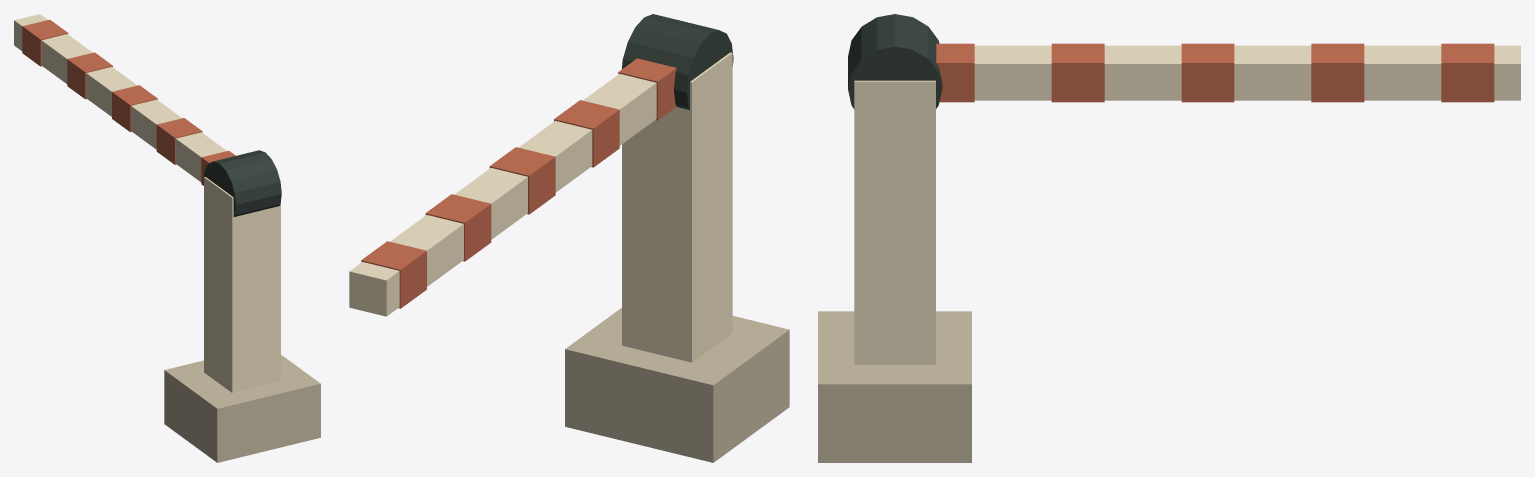
The model's file is gate.glb.
The picture shows the model from 3 angles, left to right: view 1: azimuth 30°, elevation 25°; view 2: azimuth 150°, elevation 25°; view 3: azimuth 270°, elevation 25°; orthographic projection. The views are drawn at different scales.
Visible parts, largest first — view 1: Gate stand, Gate foot, Arm beam, Mesh_GateArm_terra, Hinge; view 2: Gate stand, Gate foot, Arm beam, Mesh_GateArm_terra, Hinge; view 3: Gate stand, Gate foot, Arm beam, Mesh_GateArm_terra, Hinge.
Part boxes in pixels (box(x1,y1,x2,y2)): Gate stand: box(204, 177, 280, 392); Gate foot: box(164, 355, 320, 462); Arm beam: box(14, 14, 226, 181); Mesh_GateArm_terra: box(22, 19, 235, 185); Hinge: box(203, 150, 281, 216); Gate stand: box(622, 52, 732, 362); Gate foot: box(565, 308, 789, 462); Arm beam: box(349, 73, 656, 316); Mesh_GateArm_terra: box(361, 58, 676, 308); Hinge: box(621, 14, 733, 109); Gate stand: box(854, 80, 935, 364); Gate foot: box(818, 311, 971, 462); Arm beam: box(974, 45, 1520, 100); Mesh_GateArm_terra: box(936, 43, 1494, 102); Hinge: box(848, 14, 942, 108).
Size of the model in its own units: 0.18 by 0.454 by 0.73.
